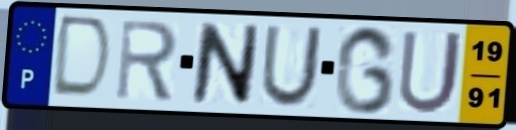D: (48, 13, 116, 103)
G: (331, 23, 399, 117)
N: (188, 20, 263, 108)
R: (113, 16, 181, 103)
U: (395, 28, 467, 117), (257, 23, 326, 110)
